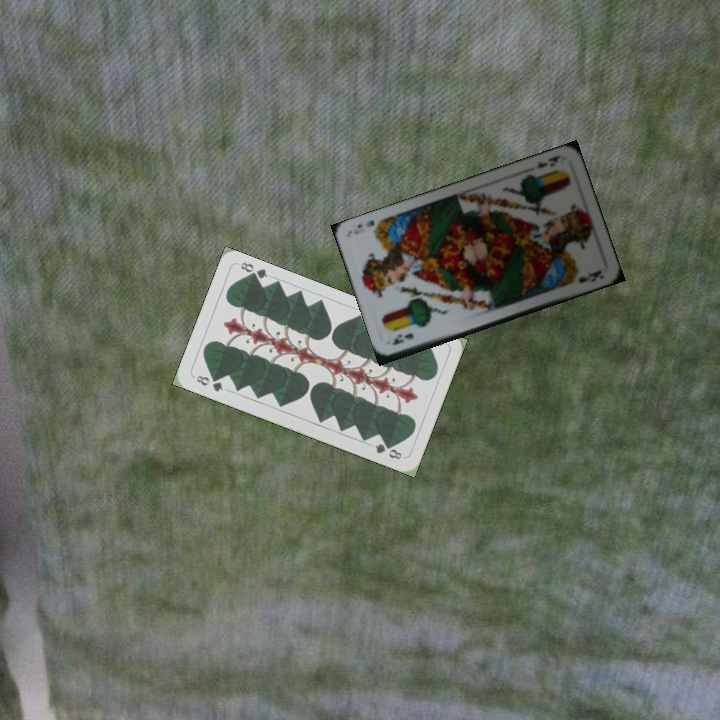EK: (532, 151, 565, 171), (388, 329, 416, 347)
G8: (192, 371, 226, 394)
